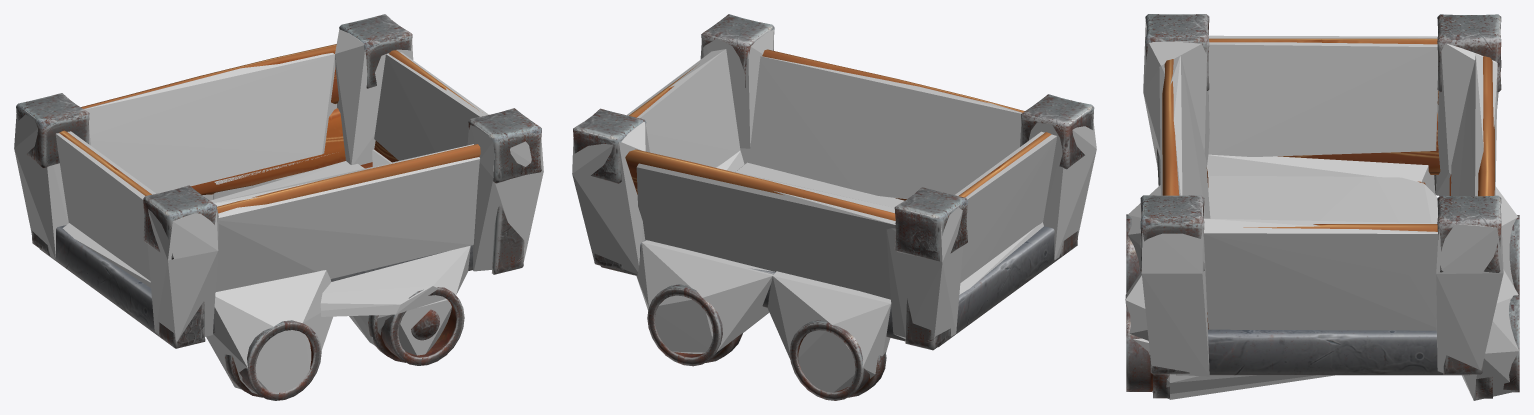
Rendered from SM_Trolley_c.fbx.
3 views of the same model, side by side, from view 1: azimuth 30°, elevation 25°; view 2: azimuth 150°, elevation 25°; view 3: azimuth 270°, elevation 25° (orthographic). The views are drawn at different scales.
Visible parts, largest first — view 1: SM_Trolley_c_ConvexHulls, SM_Trolley_c; view 2: SM_Trolley_c_ConvexHulls, SM_Trolley_c; view 3: SM_Trolley_c_ConvexHulls, SM_Trolley_c.
Boxes of the visible parts, x1,y1,x2,y2 form: SM_Trolley_c_ConvexHulls: (14,29,543,394); SM_Trolley_c: (16,14,541,400); SM_Trolley_c_ConvexHulls: (572,28,1096,392); SM_Trolley_c: (573,14,1094,400); SM_Trolley_c_ConvexHulls: (1125,22,1518,400); SM_Trolley_c: (1126,14,1519,398).
Size of the model in its own units: 169 by 134 by 90.54.
Materials: 2 (1 with a texture image).
